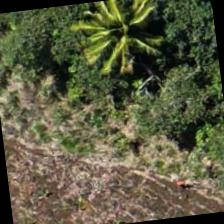Kelapa_Sawit: (75, 0, 175, 81)
